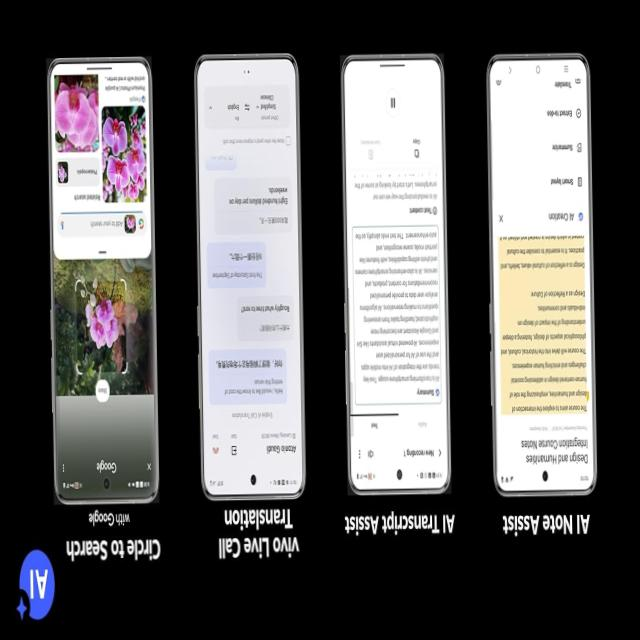mobile_phone: (29, 39, 168, 512), (182, 31, 311, 512)
